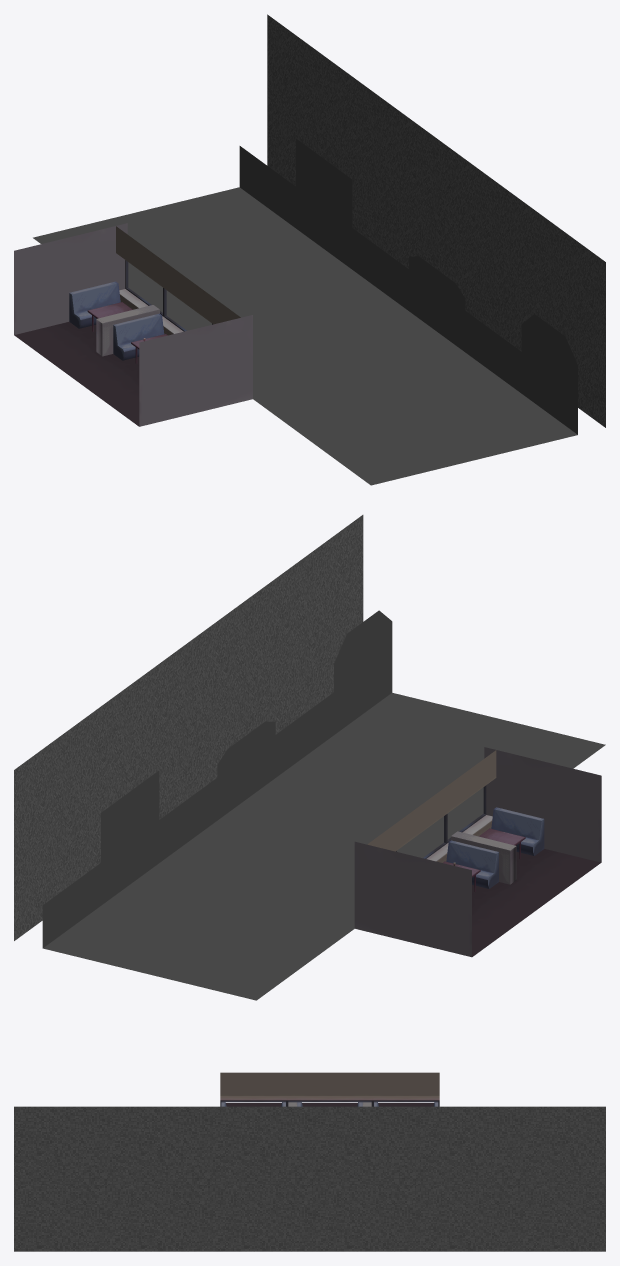
File: scene_cafe.gltf
The picture shows the model from 3 angles, top to bottom: view 1: azimuth 30°, elevation 25°; view 2: azimuth 150°, elevation 25°; view 3: azimuth 270°, elevation 25°; orthographic projection. The views are drawn at different scales.
Visible parts, largest first — view 1: scene_1; view 2: scene_1; view 3: scene_1.
Part boxes in pixels (x1=…): scene_1: x1=14, y1=14, x2=605, y2=485; scene_1: x1=14, y1=515, x2=605, y2=1000; scene_1: x1=14, y1=1072, x2=605, y2=1251.
Bounding box in the file's own units: 15.94 × 7.25 × 26.81.
Materials: 3 (3 with a texture image).
